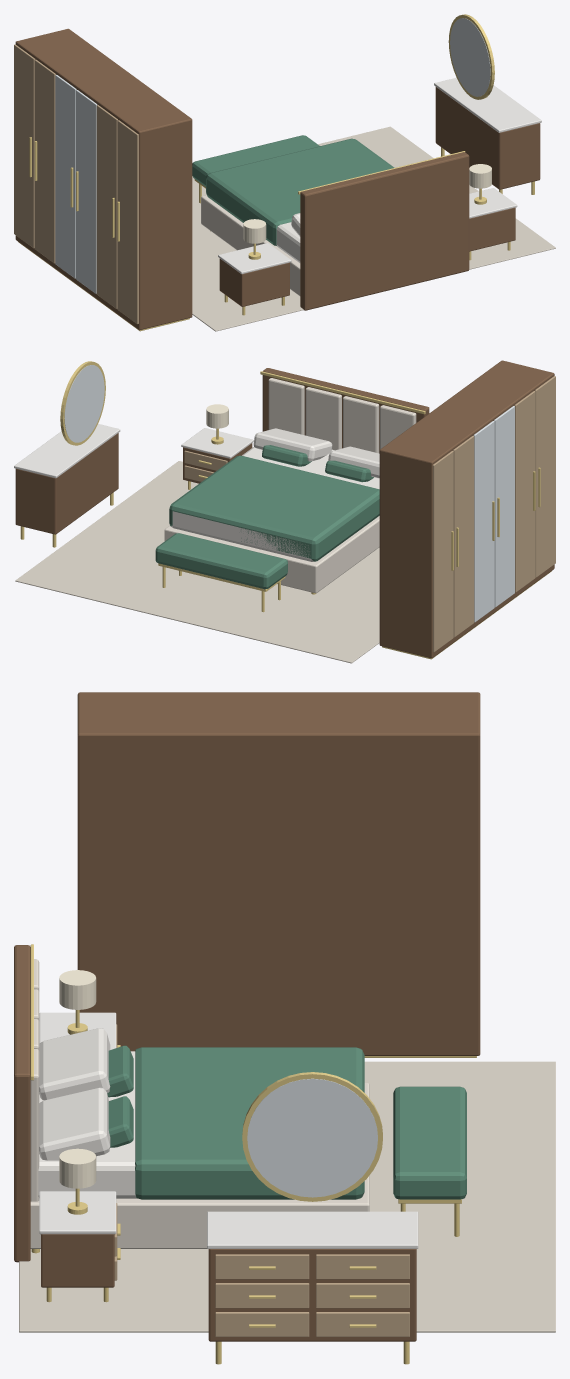
File: yatak-odasi-tam-takim.glb
The picture shows the model from 3 angles, top to bottom: view 1: azimuth 30°, elevation 25°; view 2: azimuth 150°, elevation 25°; view 3: azimuth 270°, elevation 25°; orthographic projection. The views are drawn at different scales.
Visible parts, largest first — view 1: Bed_Headboard_Frame, WR_Main, Room_Rug, Bed_Duvet, DR_Body, WR_Door_1, WR_Door_0, WR_Door_4, WR_Door_5, WR_Door_3, WR_Door_2, DR_Top (+11 smaller); view 2: Room_Rug, WR_Main, Bed_Duvet, DR_Body, Pouf_Seat, WR_Door_5, WR_Door_4, WR_Door_0, WR_Door_3, WR_Door_2, WR_Door_1, Bed_Base (+18 smaller); view 3: WR_Main, Room_Rug, Bed_Duvet, DR_Mirror_Glass, Pouf_Seat, DR_Top, Bed_Base, DR_Body, Bed_Headboard_Frame, Bed_Pillow_Back.001, Bed_Pillow_Back, NS_Body.001 (+15 smaller).
Boxes of the visible parts, <box> form: Bed_Headboard_Frame: <box>300,152,469,310</box>; WR_Main: <box>15,28,192,330</box>; Room_Rug: <box>192,126,555,331</box>; Bed_Duvet: <box>206,138,394,245</box>; DR_Body: <box>435,87,540,189</box>; WR_Door_1: <box>96,105,117,308</box>; WR_Door_0: <box>117,120,138,324</box>; WR_Door_4: <box>34,59,55,263</box>; WR_Door_5: <box>14,44,35,248</box>; WR_Door_3: <box>55,74,76,278</box>; WR_Door_2: <box>76,90,97,293</box>; DR_Top: <box>434,77,541,132</box>; Room_Rug: <box>15,461,379,663</box>; WR_Main: <box>379,360,554,658</box>; Bed_Duvet: <box>169,455,379,561</box>; DR_Body: <box>15,433,118,534</box>; Pouf_Seat: <box>155,533,287,589</box>; WR_Door_5: <box>432,451,453,652</box>; WR_Door_4: <box>453,436,474,637</box>; WR_Door_0: <box>535,376,555,577</box>; WR_Door_3: <box>473,421,494,622</box>; WR_Door_2: <box>494,406,514,607</box>; WR_Door_1: <box>514,391,535,592</box>; Bed_Base: <box>164,516,379,593</box>; WR_Main: <box>77,692,480,1055</box>; Room_Rug: <box>19,1061,555,1332</box>; Bed_Duvet: <box>135,1047,364,1199</box>; DR_Mirror_Glass: <box>247,1078,377,1197</box>; Pouf_Seat: <box>393,1086,466,1199</box>; DR_Top: <box>207,1211,418,1248</box>; Bed_Base: <box>30,1083,369,1248</box>; DR_Body: <box>208,1249,416,1341</box>; Bed_Headboard_Frame: <box>14,945,30,1262</box>; Bed_Pillow_Back.001: <box>39,1087,110,1160</box>; Bed_Pillow_Back: <box>39,1028,110,1100</box>; NS_Body.001: <box>41,1234,114,1287</box>.
Size of the model in its own units: 5 by 2.14 by 3.23.
